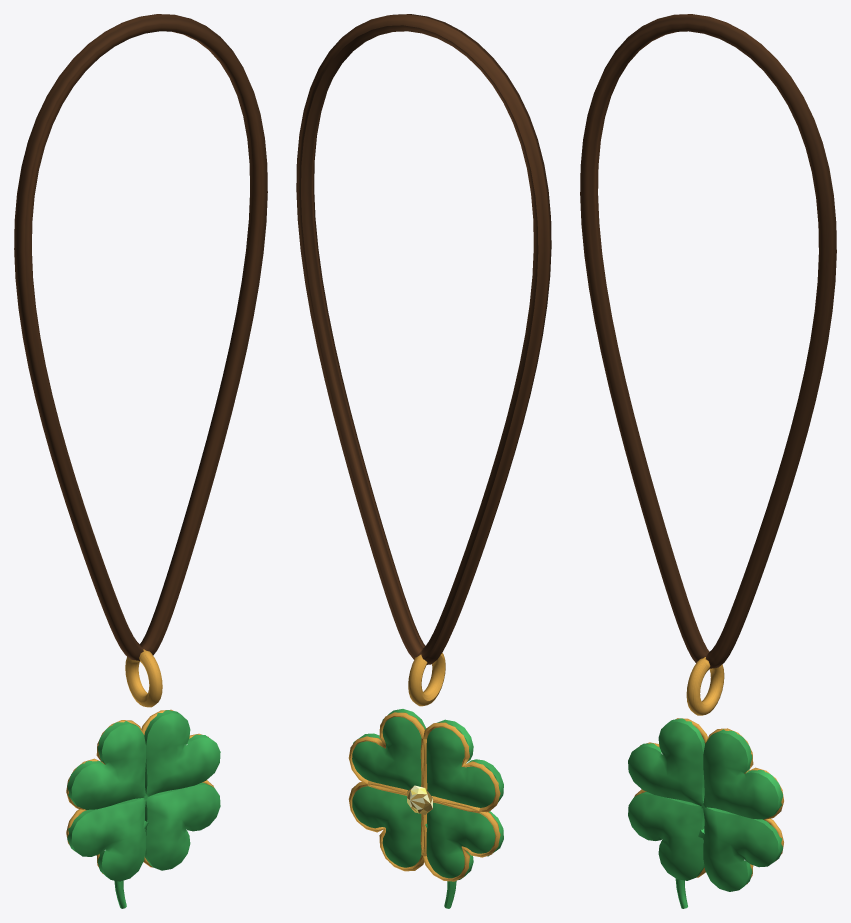
Rendered from LuckyCharm.glb.
The picture shows the model from 3 angles, left to right: view 1: azimuth 30°, elevation 25°; view 2: azimuth 150°, elevation 25°; view 3: azimuth 330°, elevation 25°; orthographic projection.
Visible parts, largest first — view 1: LuckyCharm; view 2: LuckyCharm; view 3: LuckyCharm.
Boxes of the visible parts, x1,y1,x2,y2 form: LuckyCharm: (14, 14, 267, 908); LuckyCharm: (296, 14, 551, 908); LuckyCharm: (580, 14, 836, 908).
Size of the model in its own units: 0.5447 by 1.83 by 0.116.
Materials: 1 (1 with a texture image).
